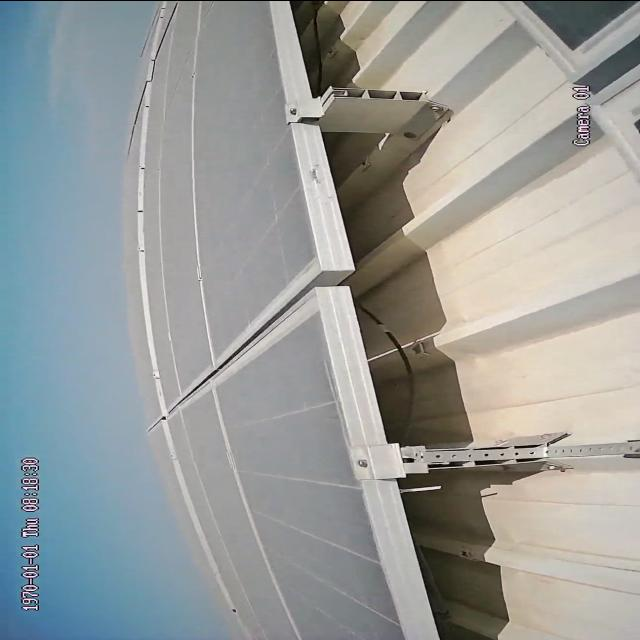interior panel: (171, 265, 308, 416)
outher panel: (284, 2, 640, 640)
